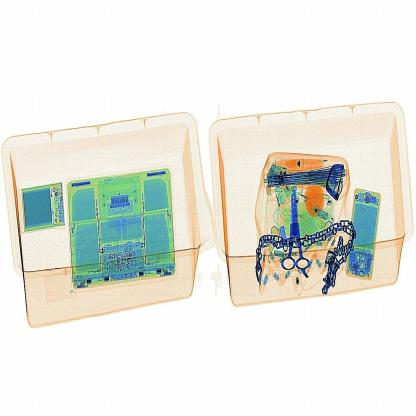gun: (279, 179, 321, 283)
